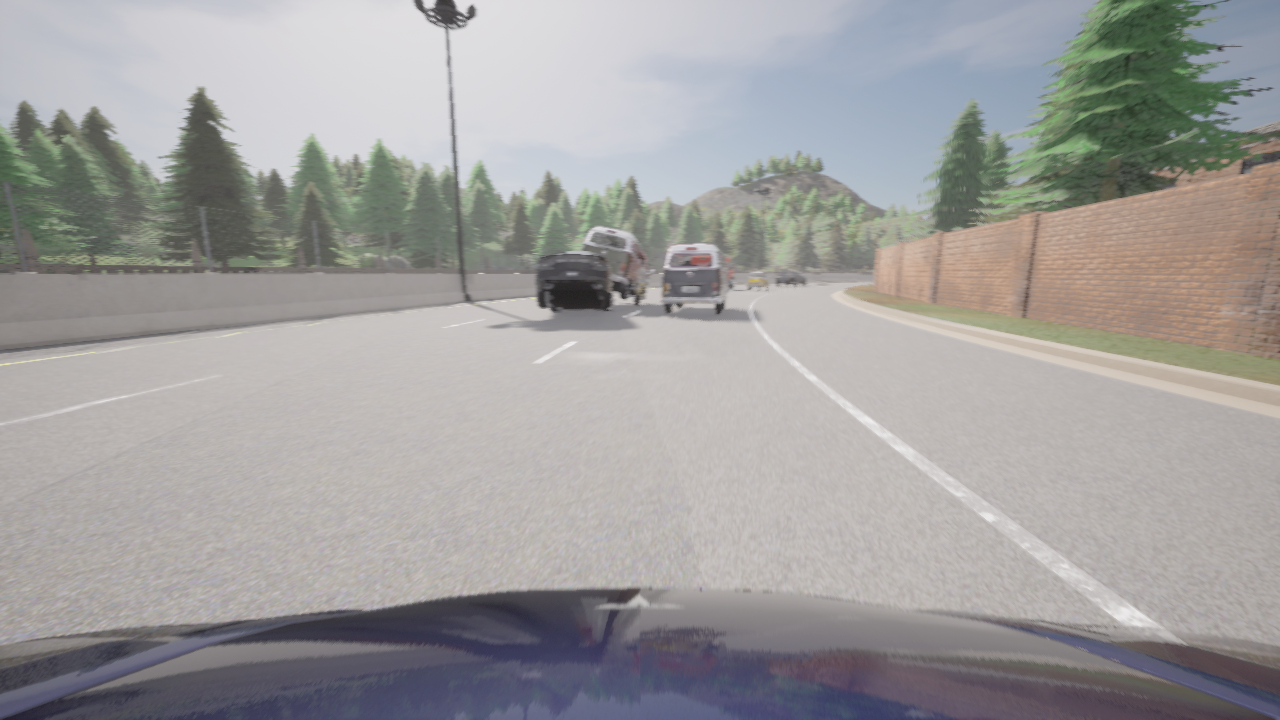cyclist: (0, 588, 1279, 719), (581, 226, 654, 305), (661, 243, 732, 314), (537, 250, 614, 311), (775, 270, 806, 286), (725, 256, 738, 288), (748, 271, 769, 290)
